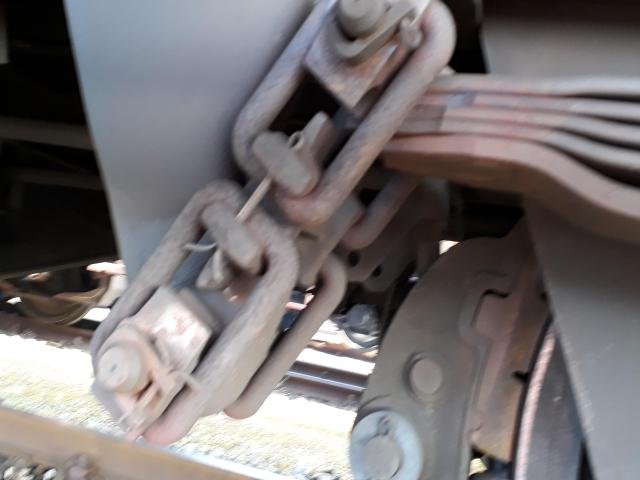blattfederww: (378, 62, 640, 214)
